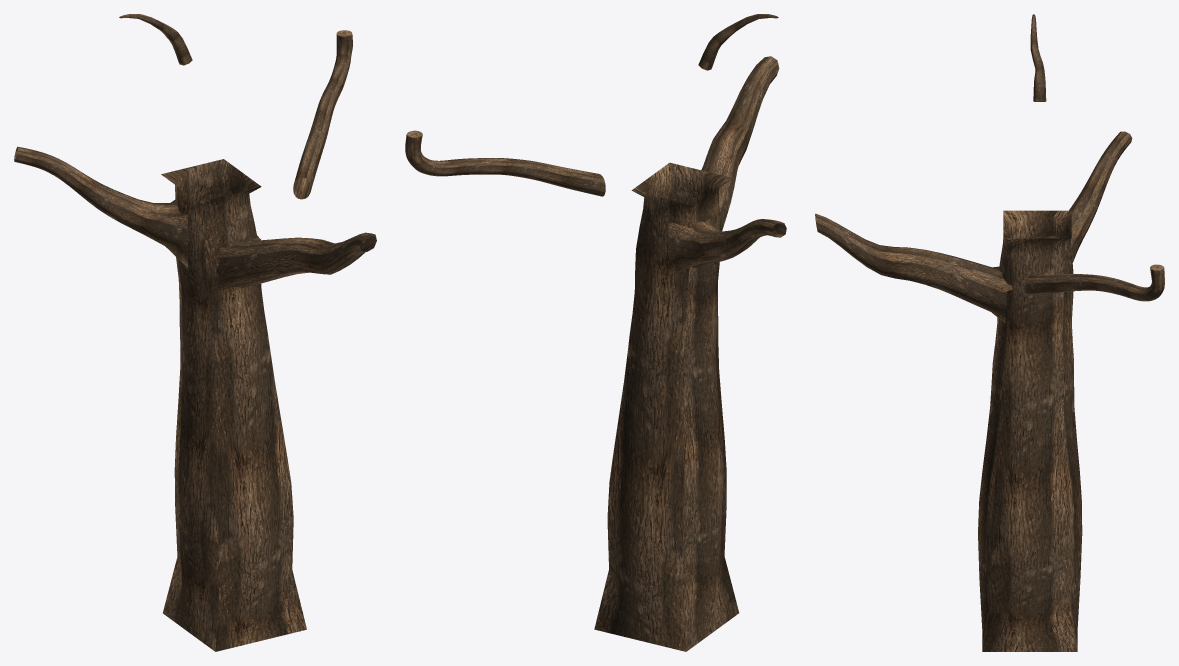
Rendered from tree_trunks.fbx.
3 renders of one model, left to right at view 1: azimuth 30°, elevation 25°; view 2: azimuth 150°, elevation 25°; view 3: azimuth 270°, elevation 25°, orthographic. The views are drawn at different scales.
Parts seen in each view (by area): view 1: pCube12, pCube57, pCube113, pCube111, pCube98; view 2: pCube12, pCube57, pCube111, pCube113, pCube98; view 3: pCube12, pCube57, pCube111, pCube113, pCube98.
Boxes of the visible parts, x1,y1,x2,y2 form: pCube12: (161, 159, 306, 651); pCube57: (216, 232, 376, 291); pCube113: (14, 146, 187, 267); pCube111: (293, 30, 352, 199); pCube98: (119, 14, 192, 65); pCube12: (594, 162, 739, 651); pCube57: (701, 56, 779, 231); pCube111: (405, 130, 605, 196); pCube113: (668, 211, 786, 275); pCube98: (698, 14, 778, 70); pCube12: (978, 210, 1082, 651); pCube57: (815, 213, 1012, 323); pCube111: (1025, 264, 1164, 301); pCube113: (1031, 131, 1132, 262); pCube98: (1030, 14, 1046, 101).
Size of the model in its own units: 23.91 by 40.32 by 22.49.
Materials: 2 (2 with a texture image).
